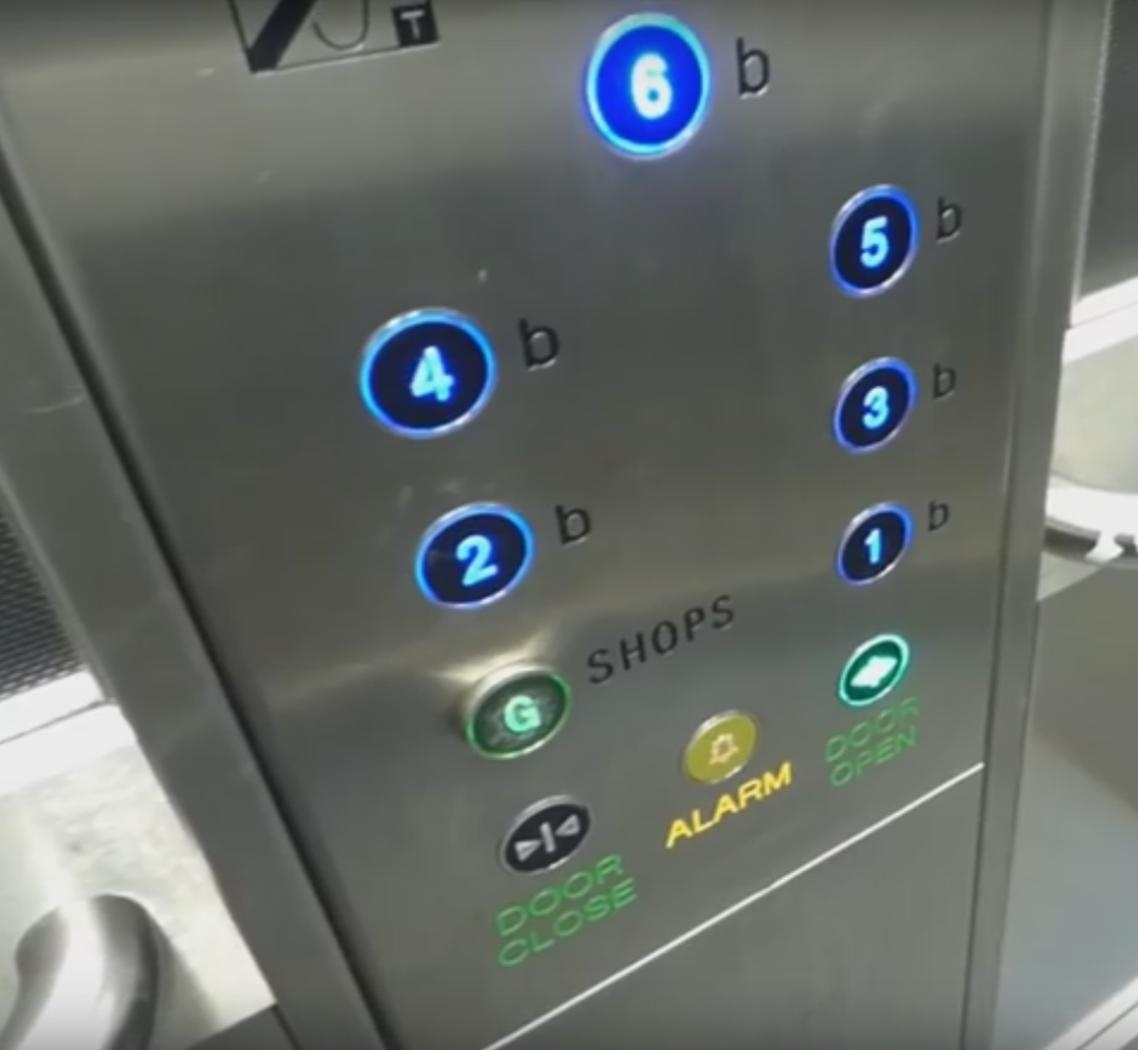1: (832, 496, 915, 591)
2: (410, 500, 537, 611)
3: (827, 354, 924, 459)
4: (354, 300, 502, 448)
5: (823, 181, 921, 302)
6: (581, 6, 719, 170)
G: (459, 658, 575, 766)
alarm: (676, 703, 772, 788)
close: (497, 790, 593, 875)
open: (839, 631, 908, 708)
